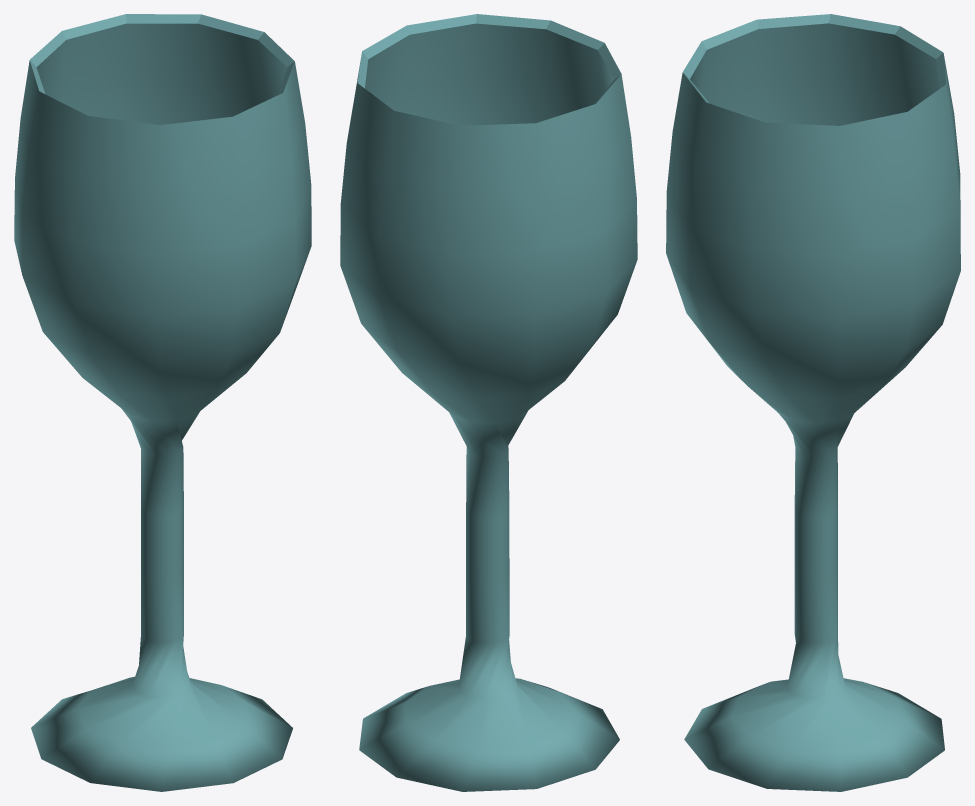
File: copa 1.fbx
The picture shows the model from 3 angles, left to right: view 1: azimuth 30°, elevation 25°; view 2: azimuth 150°, elevation 25°; view 3: azimuth 270°, elevation 25°; orthographic projection.
Visible parts, largest first — view 1: nurbsToPoly3; view 2: nurbsToPoly3; view 3: nurbsToPoly3.
Part boxes in pixels (x1,y1,x2,y2): nurbsToPoly3: [14, 14, 311, 791]; nurbsToPoly3: [340, 14, 637, 791]; nurbsToPoly3: [666, 14, 960, 791].
Bounding box in the file's own units: 9.68 × 24.33 × 9.58.
